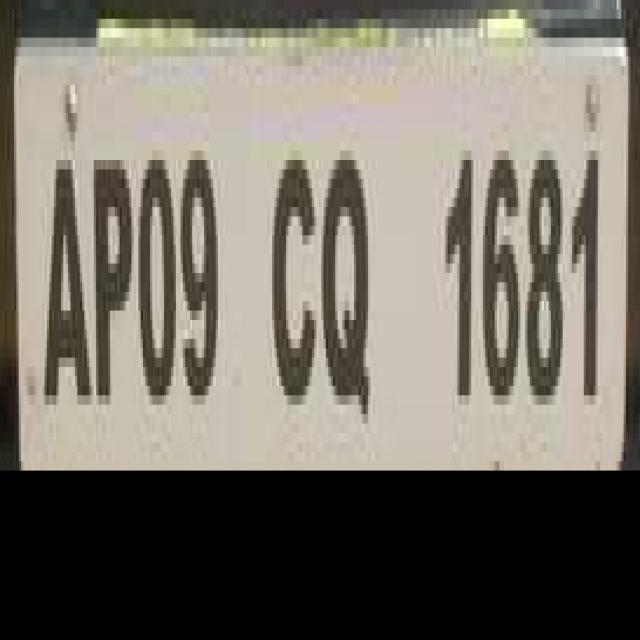license_plate: (11, 19, 640, 480)
